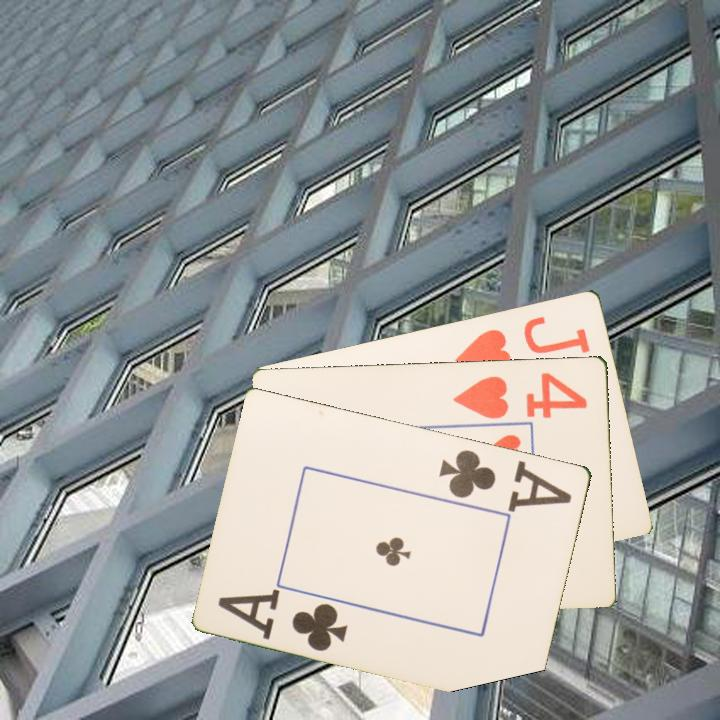4h: (450, 368, 591, 422)
Ac: (435, 445, 575, 513), (215, 586, 352, 654)
Jh: (451, 312, 594, 375)
